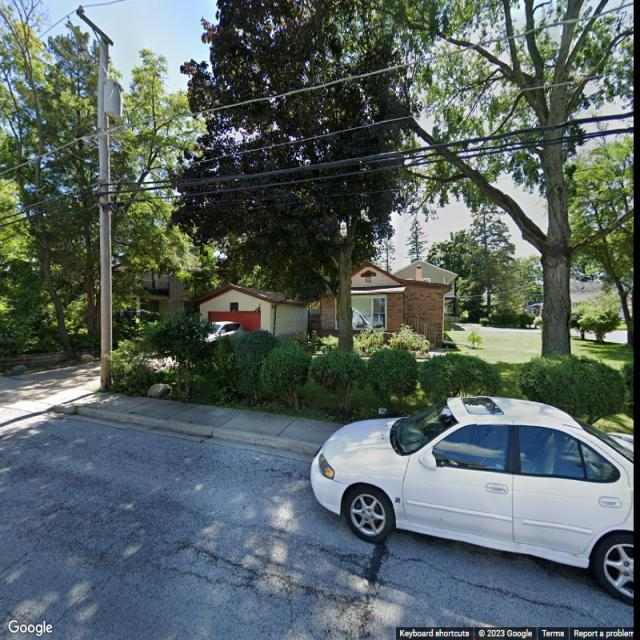House: (192, 260, 447, 353)
